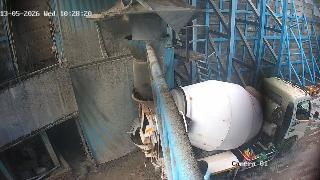cement_mixer_truck: (131, 76, 320, 180)
swing_chute: (123, 36, 172, 98)
